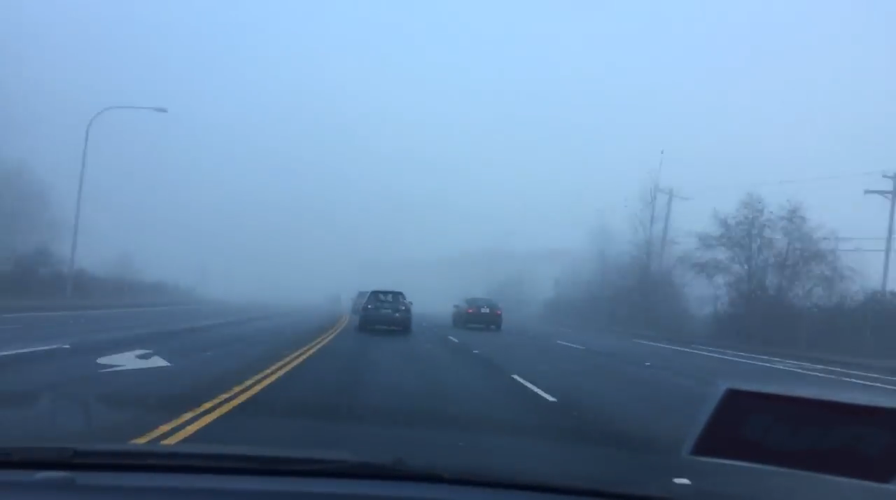car: (355, 287, 415, 330), (450, 295, 504, 331), (350, 289, 383, 316)
